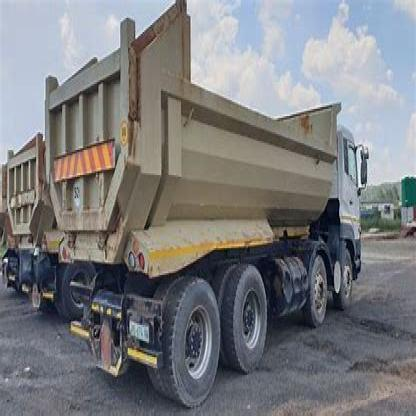dump_truck: (42, 7, 369, 400), (0, 102, 46, 291)
